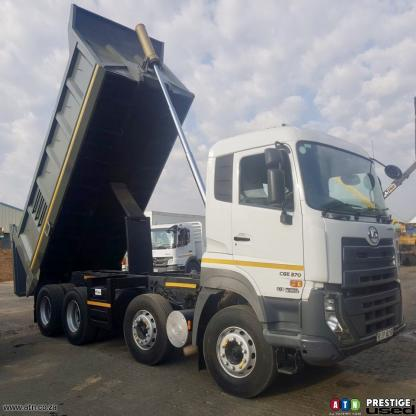dump_truck: (11, 4, 413, 398)
